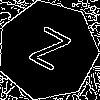Z: (23, 25, 72, 81)
